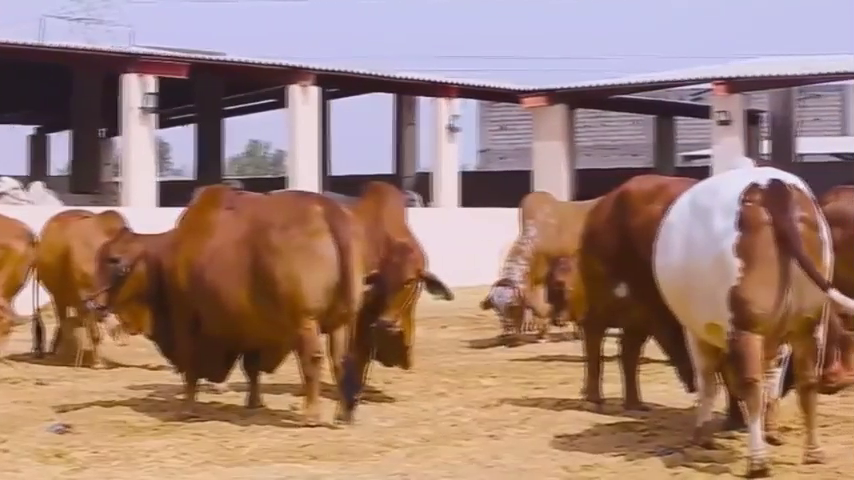bo: (87, 179, 355, 437), (648, 159, 846, 475), (324, 162, 458, 391), (569, 160, 687, 415), (21, 175, 132, 385), (479, 175, 584, 359), (2, 206, 39, 387), (543, 250, 589, 338)
